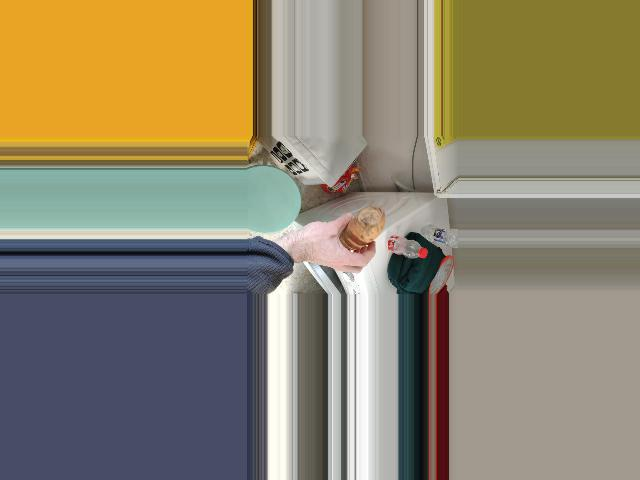sweet_potato: (336, 209, 383, 250)
